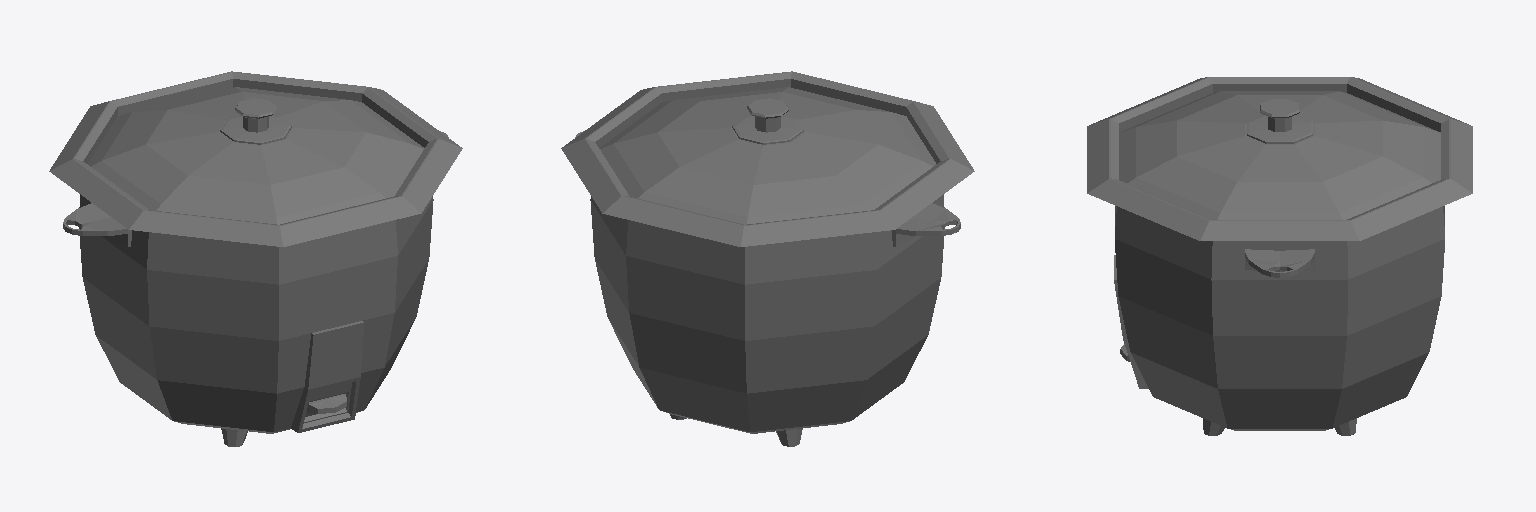
Rendered from Panela_1.obj.
3 views of the same model, side by side, from view 1: azimuth 30°, elevation 25°; view 2: azimuth 150°, elevation 25°; view 3: azimuth 270°, elevation 25° (orthographic).
Parts seen in each view (by area): view 1: group94; view 2: group94; view 3: group94.
Part boxes in pixels (bbox=[...]): group94: bbox=[49, 71, 462, 446]; group94: bbox=[561, 71, 974, 446]; group94: bbox=[1087, 77, 1472, 435].
Bounding box in the file's own units: 0.5867 × 0.4388 × 0.5139.